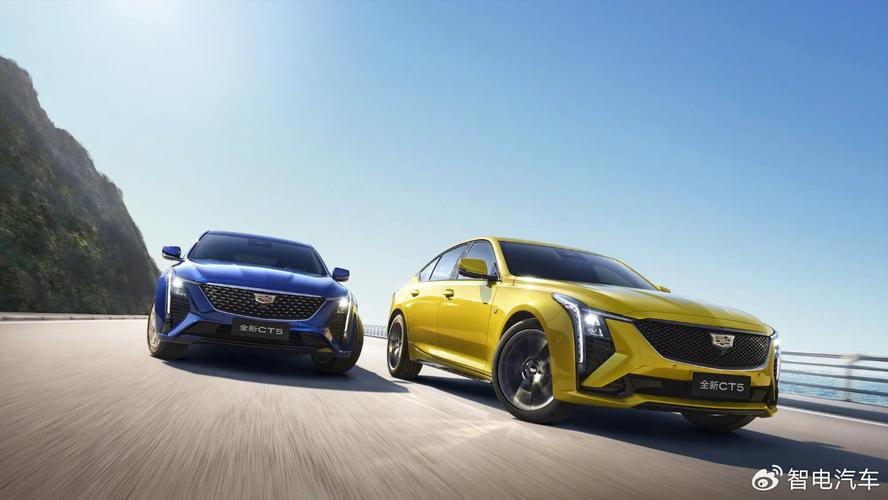汽车: (387, 228, 795, 444), (148, 226, 377, 388)
